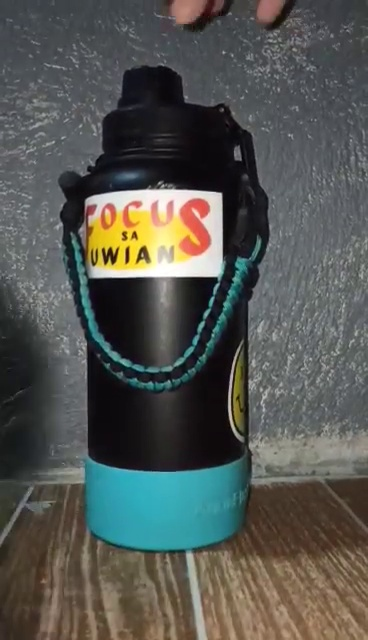tumbler: (58, 64, 268, 553)
